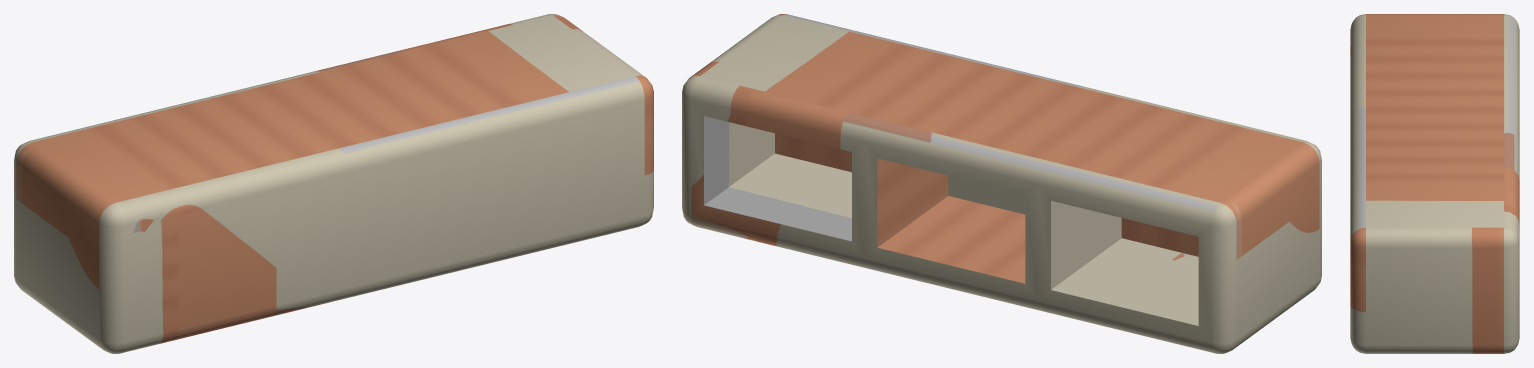
Rendered from Mesh_Enviro_Simple_Desk.fbx.
3 renders of one model, left to right at view 1: azimuth 30°, elevation 25°; view 2: azimuth 150°, elevation 25°; view 3: azimuth 270°, elevation 25°, orthographic. The views are drawn at different scales.
Visible parts, largest first — view 1: simple_desk; view 2: simple_desk; view 3: simple_desk.
Boxes of the visible parts, <box> form: simple_desk: <box>14,14,653,353</box>; simple_desk: <box>682,14,1321,353</box>; simple_desk: <box>1350,14,1519,353</box>.
Size of the model in its own units: 116 by 29.94 by 36.72.
